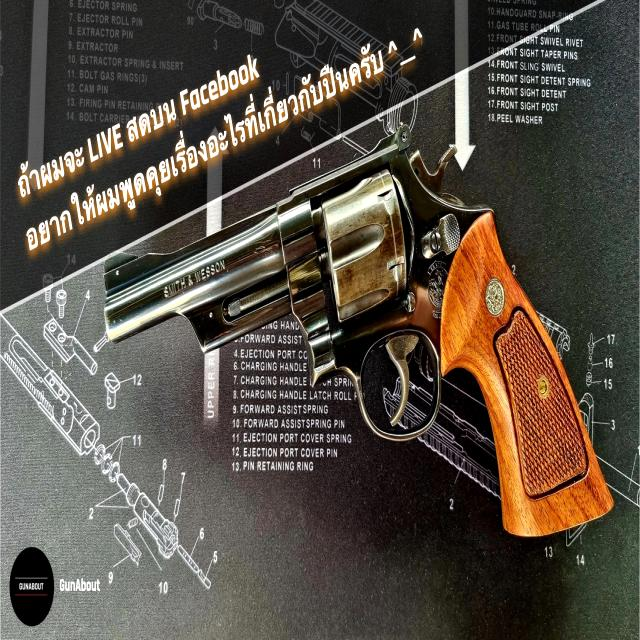revolver: (85, 123, 640, 592)
